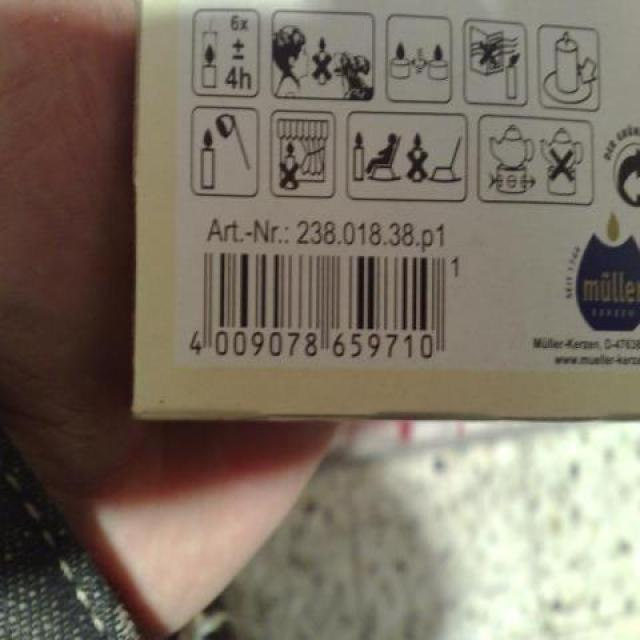Barcode: (185, 210, 468, 366)
